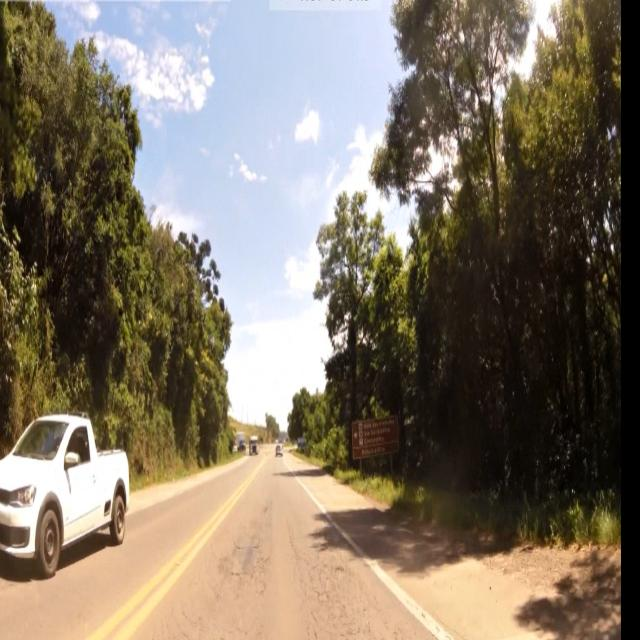TUR-4: (354, 417, 402, 464)
